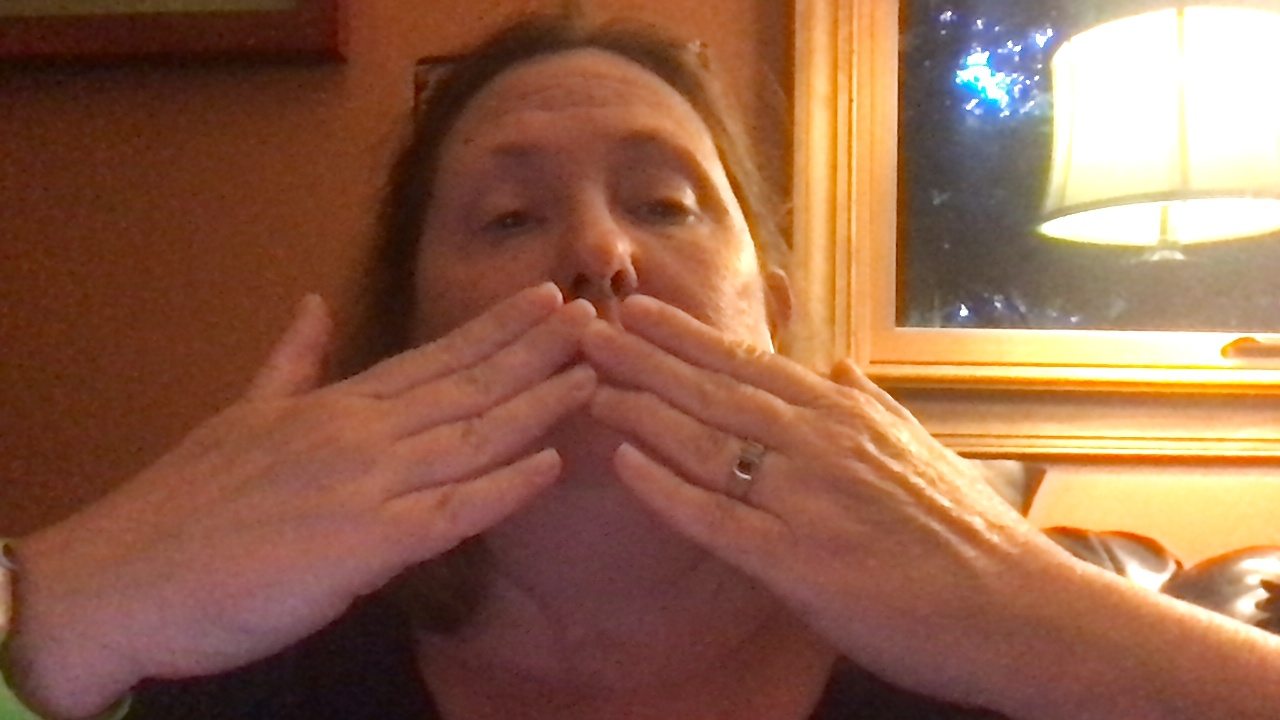thankyou: (152, 282, 1033, 696)
